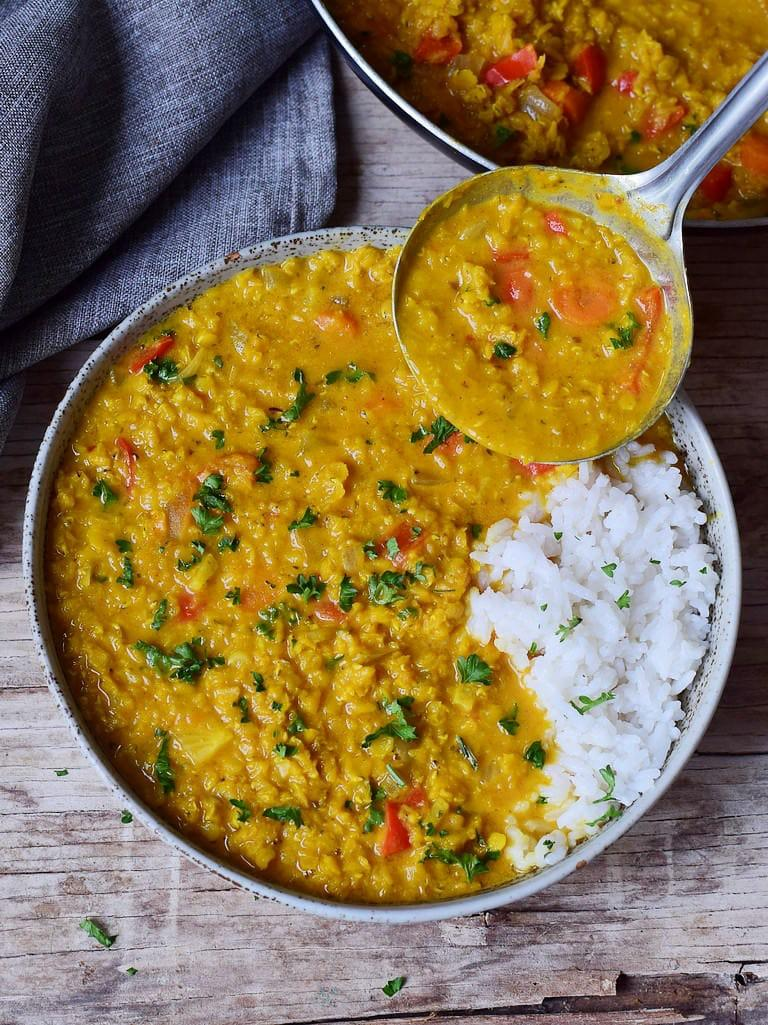Dal: (55, 164, 675, 901)
WhiteRice: (462, 436, 724, 869)
